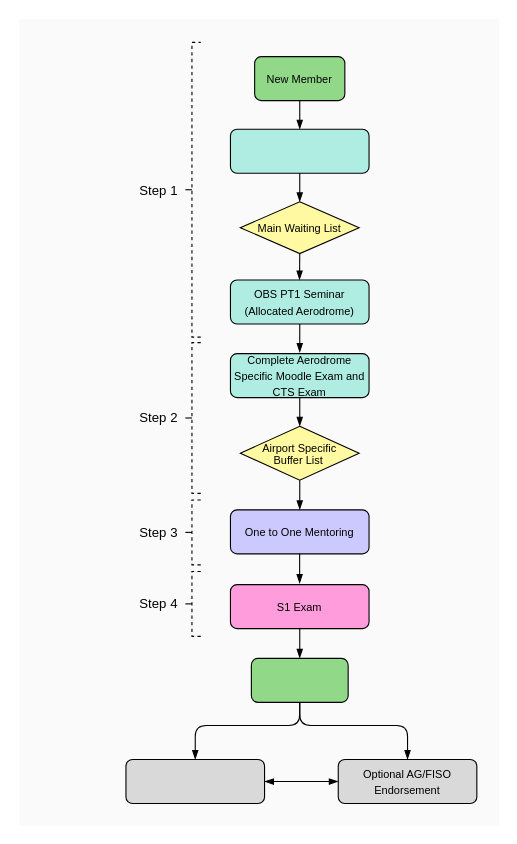
Some shapes in this 517 by 844 pixel diagram are drawn without their labels. Each missing label, with the box of its shape:
Join New Controller TG: (229, 128, 369, 173)
Optional Gatwick Endorsement: (125, 758, 265, 804)
S1: (250, 657, 348, 702)
